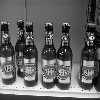beer: (21, 23, 41, 88)
